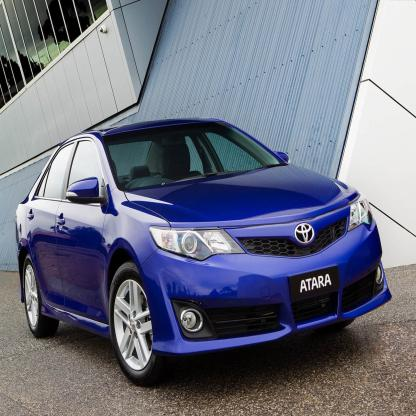Vehicle: (13, 111, 394, 389)
